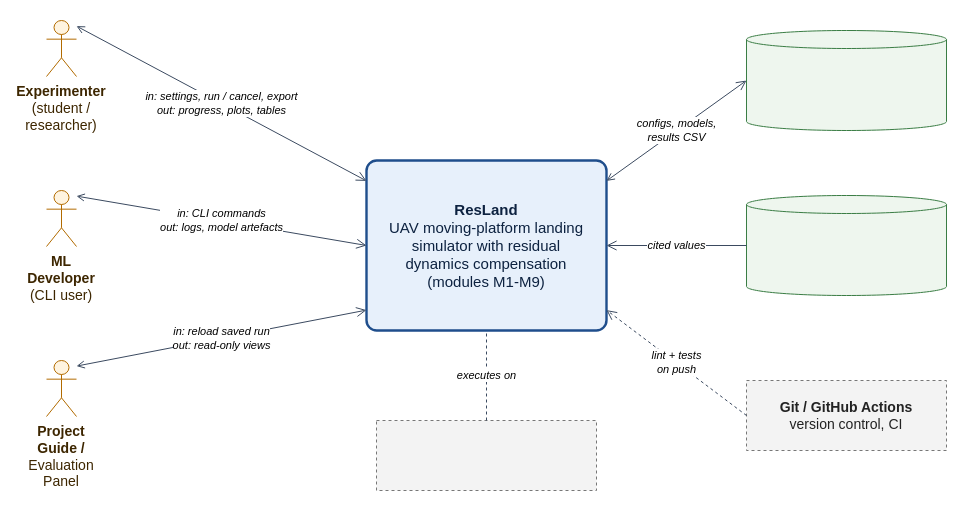
The diagram is 964 pixels wide and 509 high, and some of its shapes have lost their labels. Each missing label, with the centre of its shape:
Local file system configs/ models/ data/ results/: (x=846, y=80)
Paper reference values data/paper_reference/ (read-only, labelled): (x=846, y=245)
Python runtime NumPy, PyTorch, pandas, Streamlit, Plotly: (x=486, y=455)
